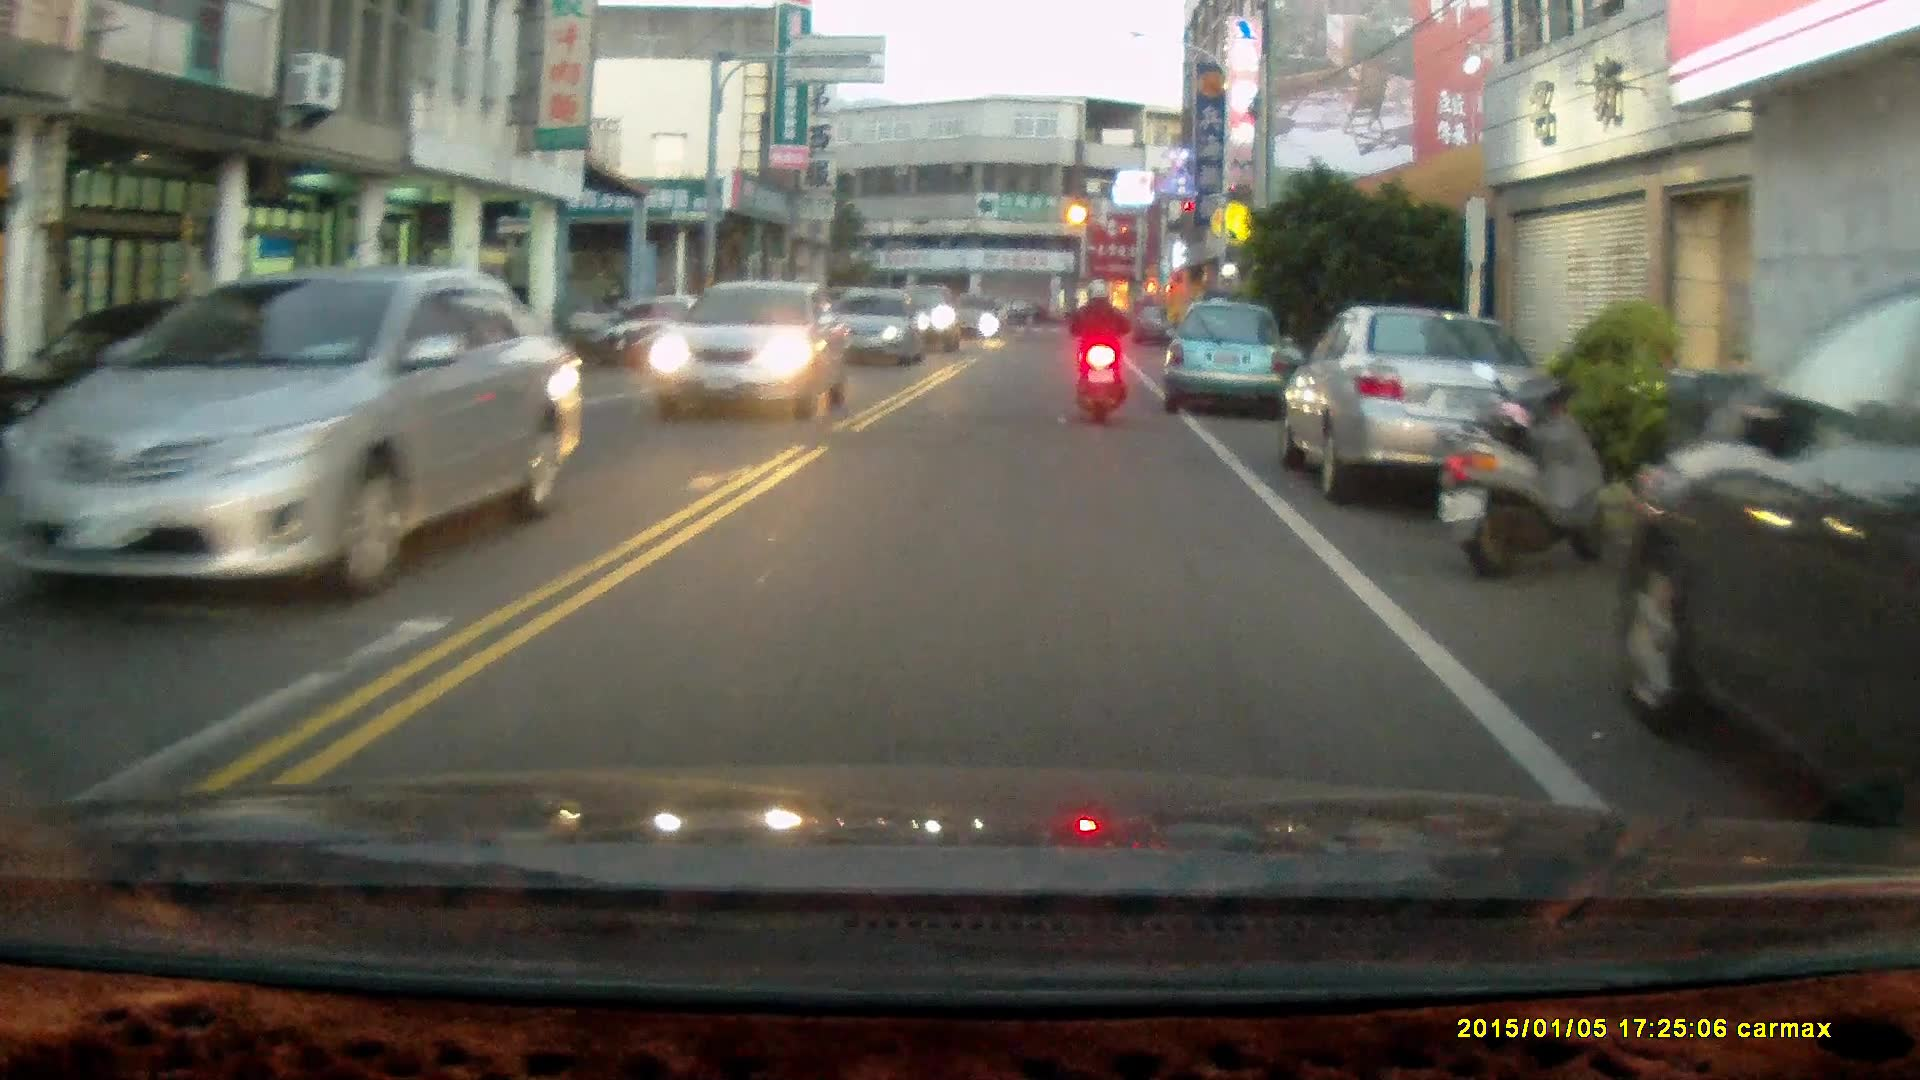rider: (1066, 274, 1126, 421)
vehicle: (14, 264, 571, 608), (1610, 269, 1920, 822), (1282, 301, 1547, 504), (645, 280, 849, 420), (1157, 300, 1292, 420), (819, 283, 930, 370)
